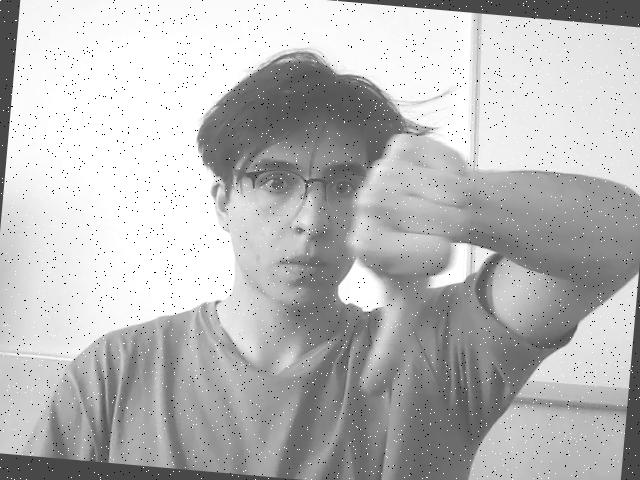bad: (342, 120, 478, 396)
